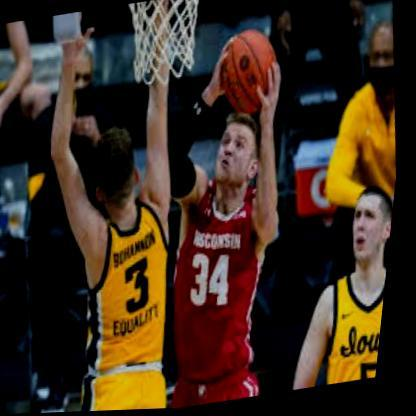basketball: (214, 27, 288, 121)
